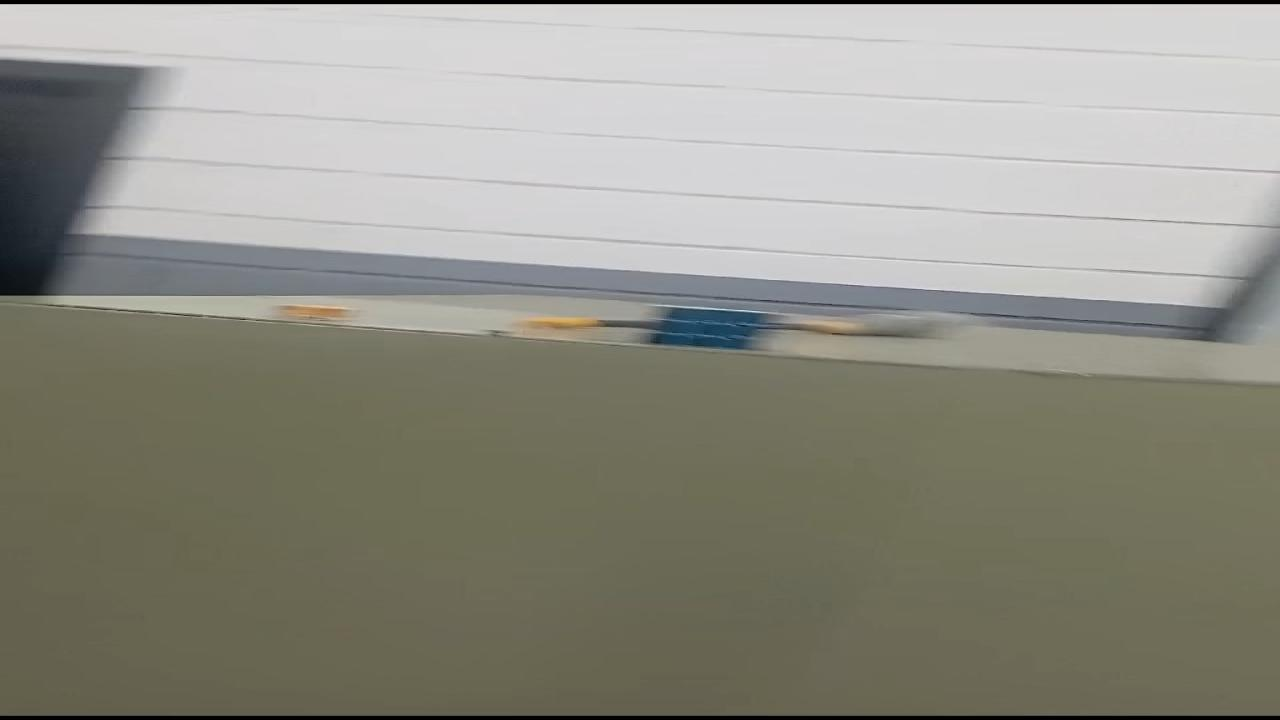Cube: (626, 301, 786, 353)
